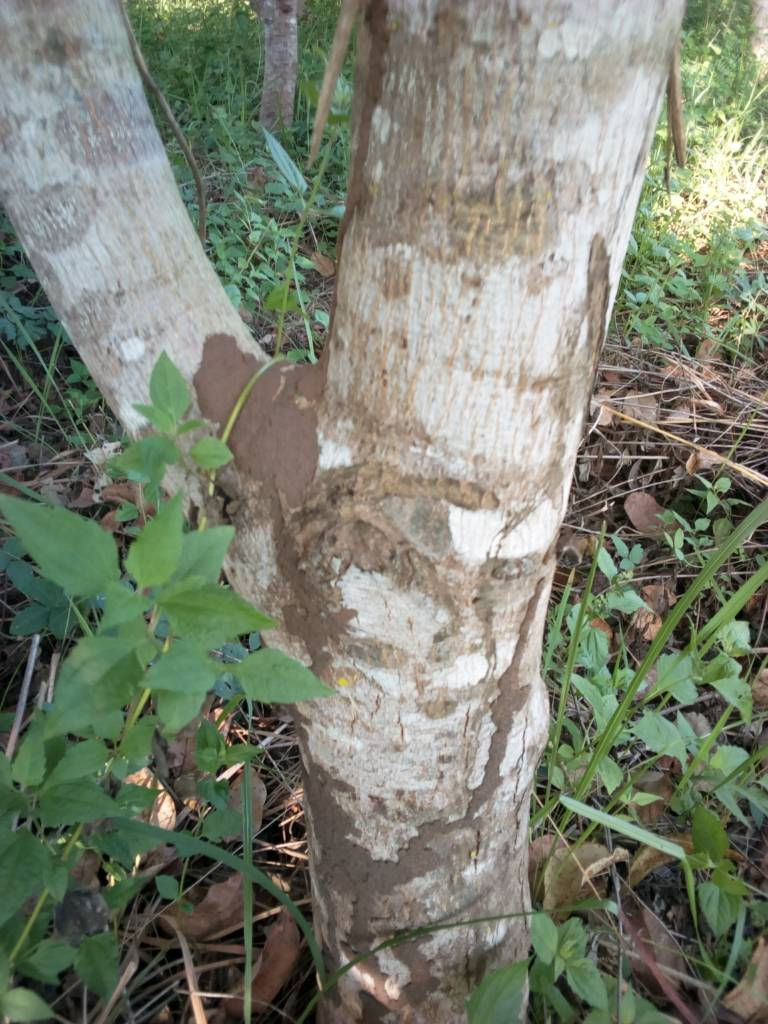Termites: (313, 767, 522, 969), (207, 328, 327, 492), (274, 530, 360, 661), (497, 578, 546, 739)
